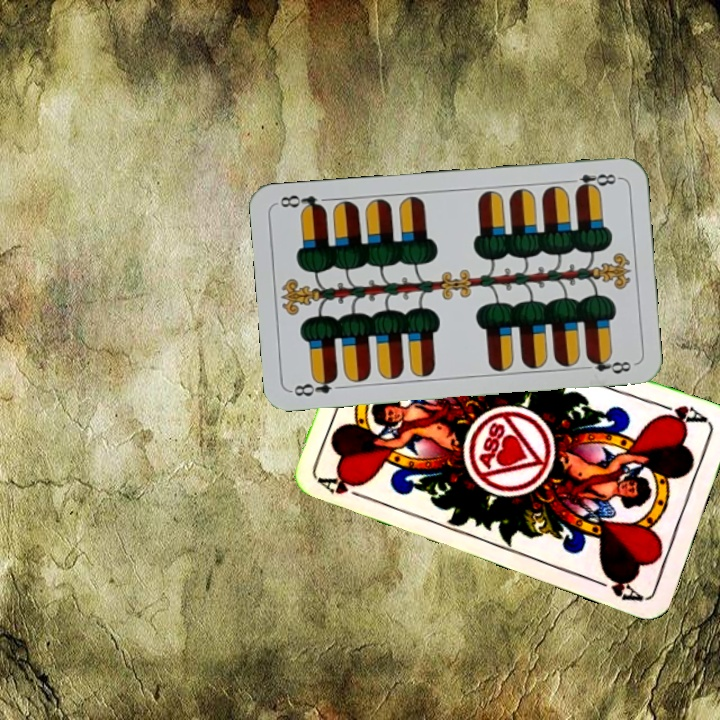E8: (563, 170, 622, 194), (288, 372, 340, 399)
HA: (651, 398, 710, 429), (315, 473, 373, 503)
